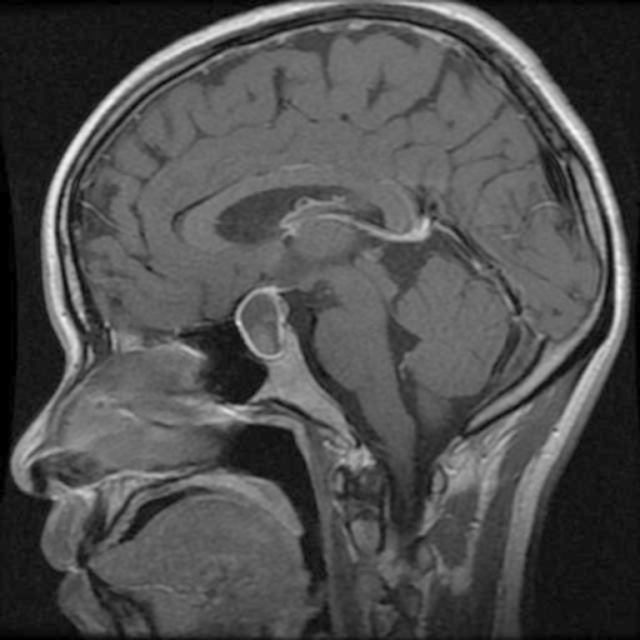no tumor: (237, 281, 295, 364)
